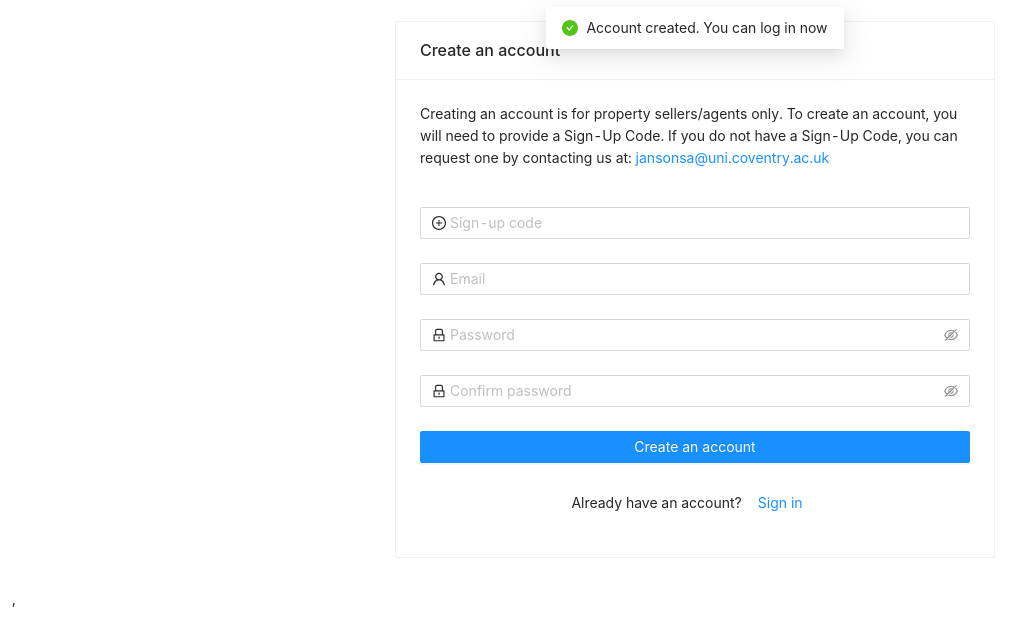
when user enters mismatching passwords, alert is displayed
Type "test sign-up code" into the field with placeholder "Sign-up code". click: x=704, y=223
box: [450,212,958,234]
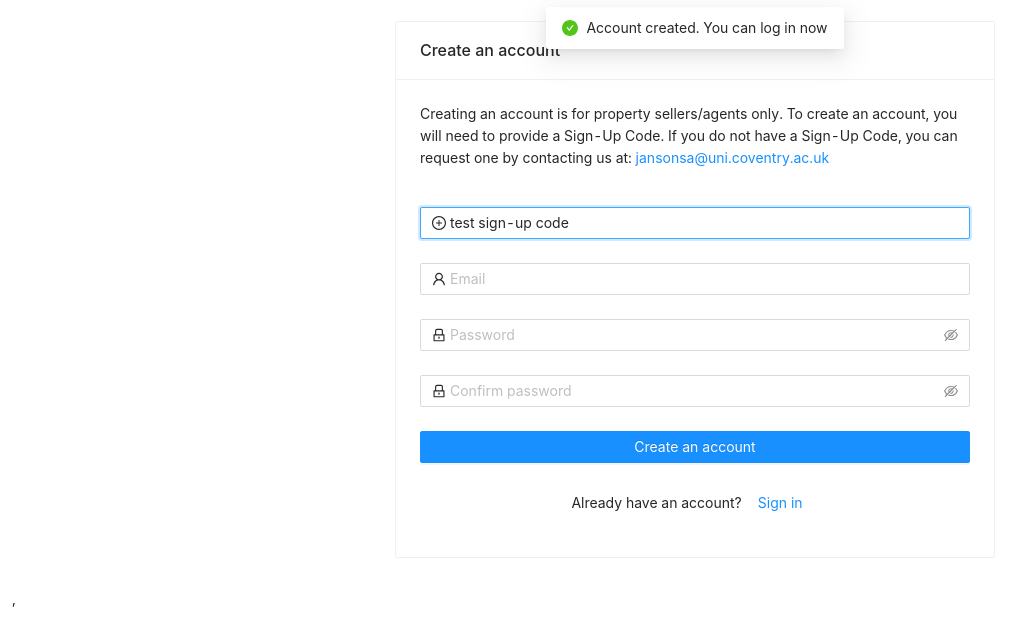
Type "user@email.com" into the field with placeholder "Email". click: x=704, y=279
box: [450,268,958,290]
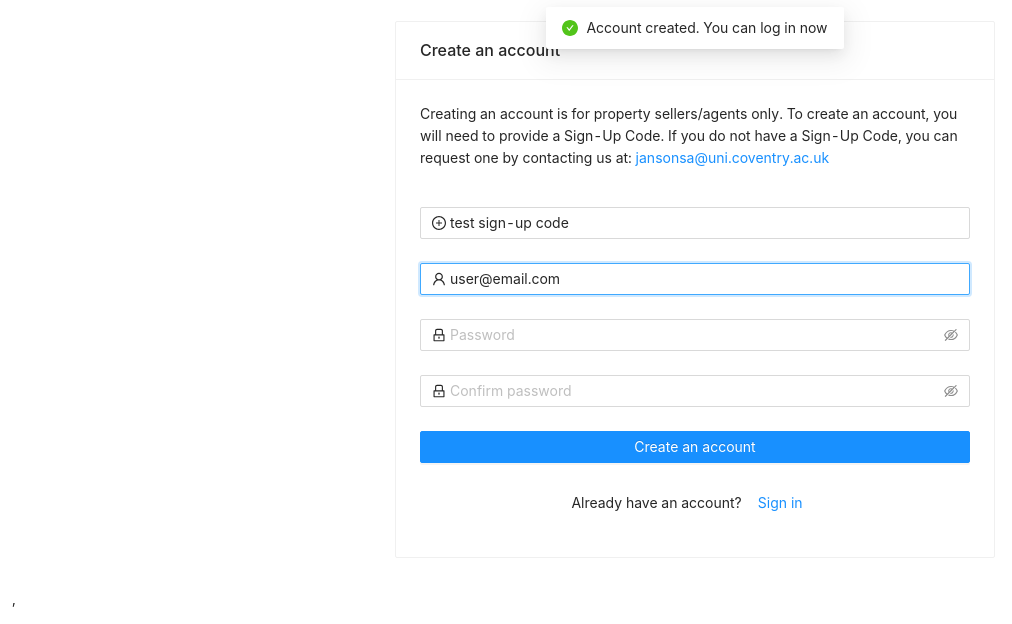
Type "password" into the password field with placeholder "Password". click: x=695, y=335
box: [450,324,940,346]
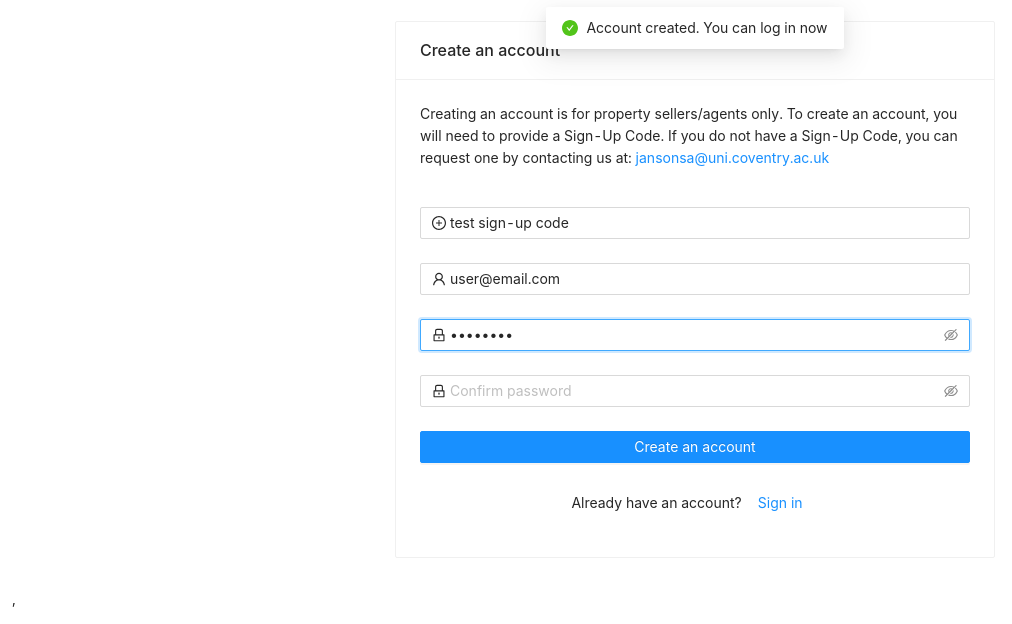
Type "mismatching password" into the password field with placeholder "Confirm password". click: x=695, y=391
box: [450,380,940,402]
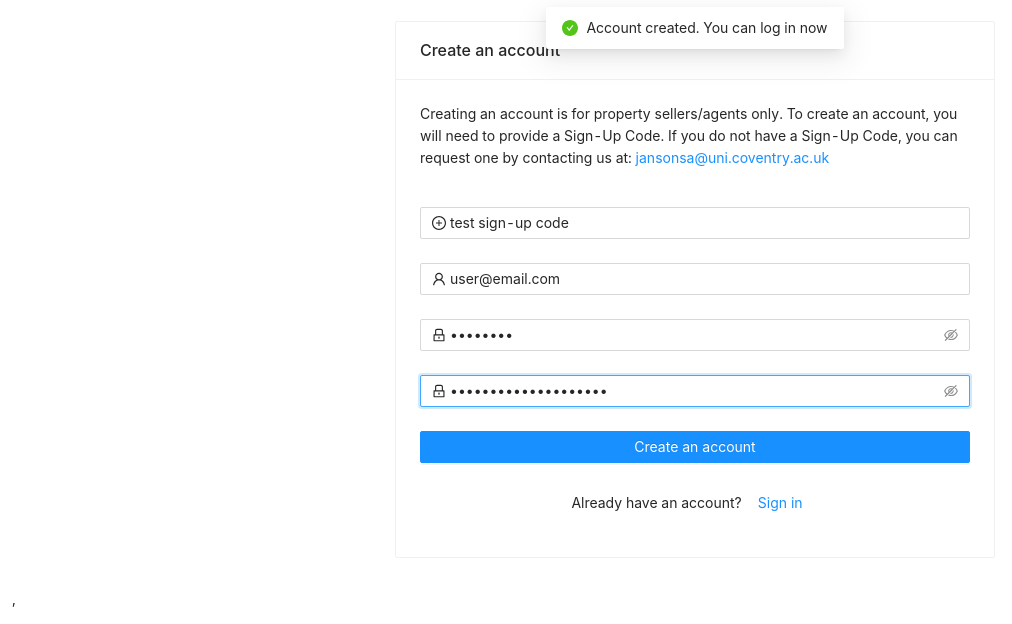
Click the submit button. click: x=695, y=447
box: [420,431,970,463]
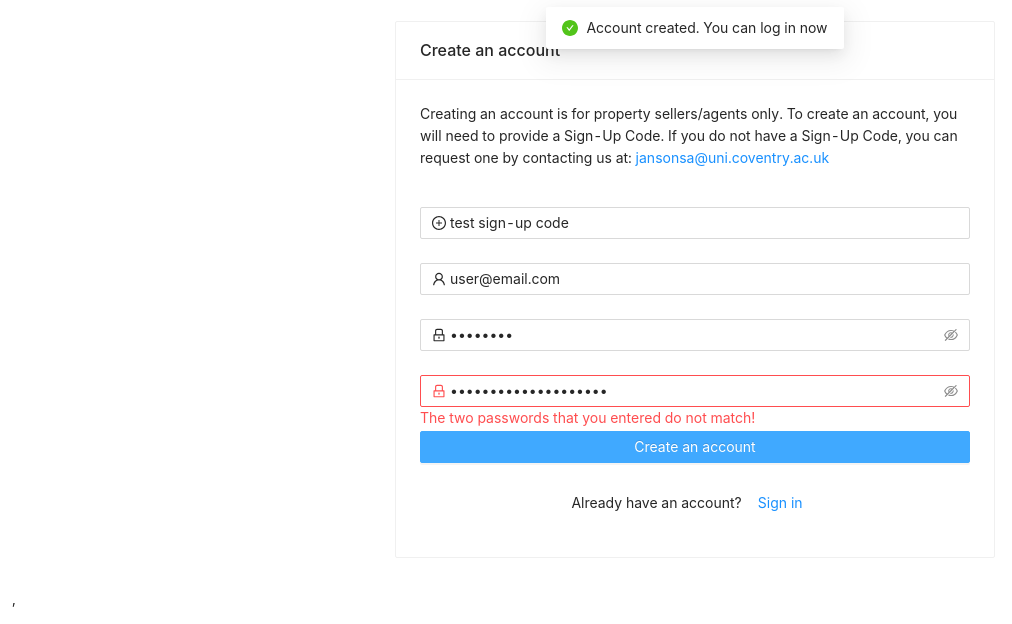
Expected: the text "The two passwords that you entered do not match!" is shown, [420,409,755,426]
